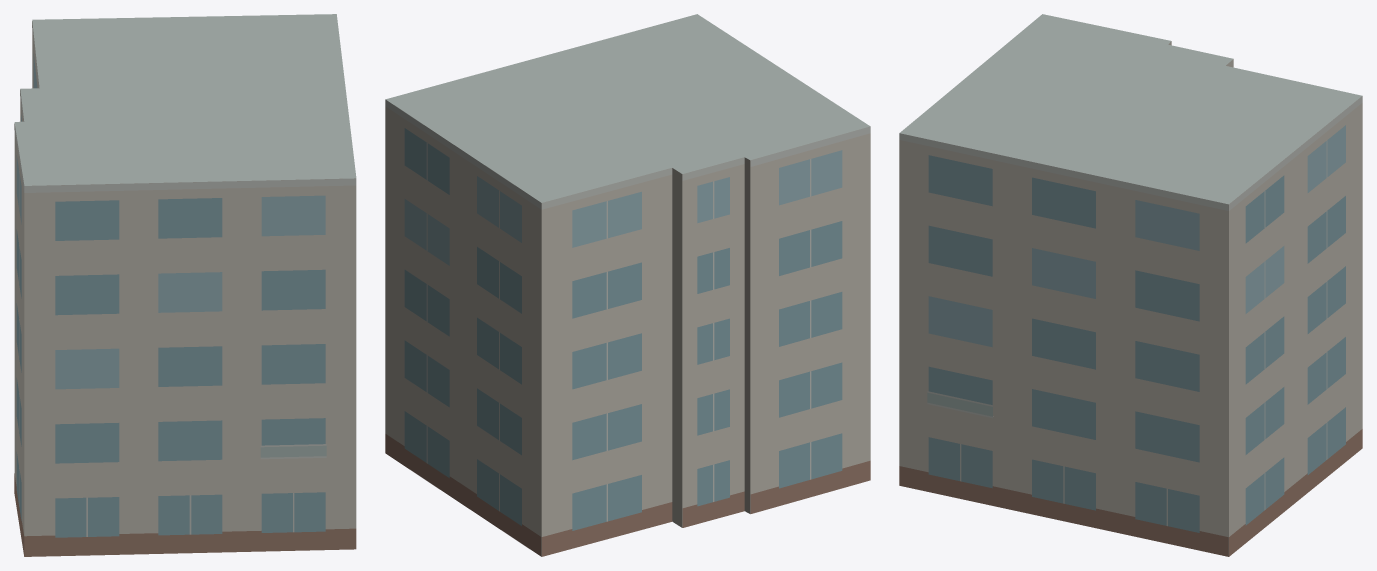
File: survey-upis-32503076.glb
3 views of the same model, side by side, from view 1: azimuth 30°, elevation 25°; view 2: azimuth 150°, elevation 25°; view 3: azimuth 270°, elevation 25° (orthographic). The views are drawn at different scales.
Visible parts, largest first — view 1: survey-upis-32503076.tmp; view 2: survey-upis-32503076.tmp; view 3: survey-upis-32503076.tmp.
Boxes of the visible parts, x1,y1,x2,y2 form: survey-upis-32503076.tmp: (14, 14, 356, 556); survey-upis-32503076.tmp: (385, 14, 870, 556); survey-upis-32503076.tmp: (899, 14, 1362, 556).
Size of the model in its own units: 14.72 by 12.7 by 15.13.
